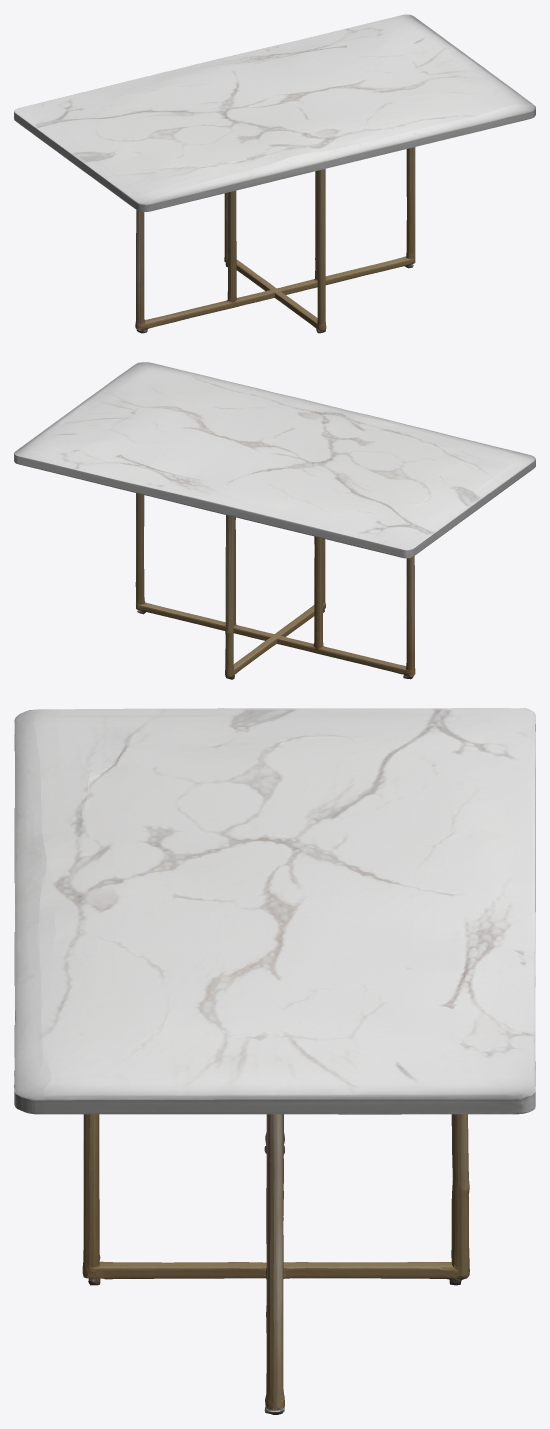
Rendered from Laurel 6.glb.
3 views of the same model, one above another, from view 1: azimuth 30°, elevation 25°; view 2: azimuth 150°, elevation 25°; view 3: azimuth 270°, elevation 25° (orthographic). The views are drawn at different scales.
Visible parts, largest first — view 1: world; view 2: world; view 3: world.
Boxes of the visible parts, <box> form: world: <box>14,14,535,333</box>; world: <box>14,362,535,679</box>; world: <box>14,708,535,1414</box>.
Size of the model in its own units: 1 by 0.4717 by 0.5667.
Materials: 1 (1 with a texture image).
